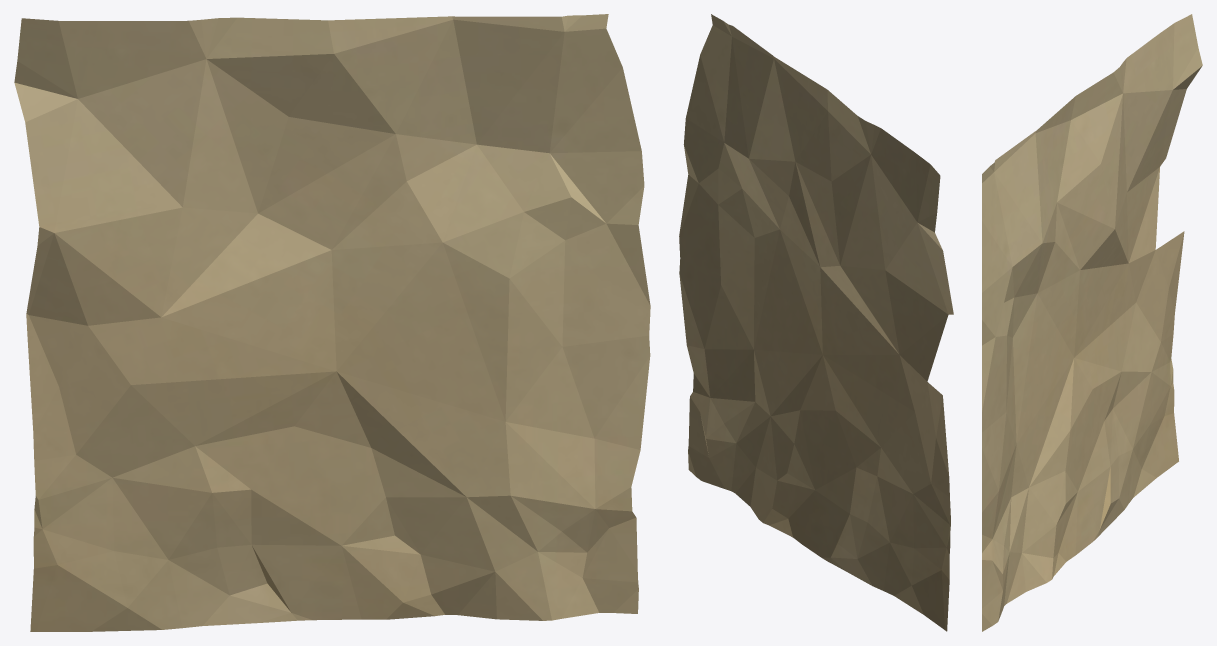
3 renders of one model, left to right at view 1: azimuth 30°, elevation 25°; view 2: azimuth 150°, elevation 25°; view 3: azimuth 270°, elevation 25°, orthographic. The views are drawn at different scales.
Bounding box in the file's own units: 0.702 × 0.8373 × 0.3743.
2 materials, 2 textured.
